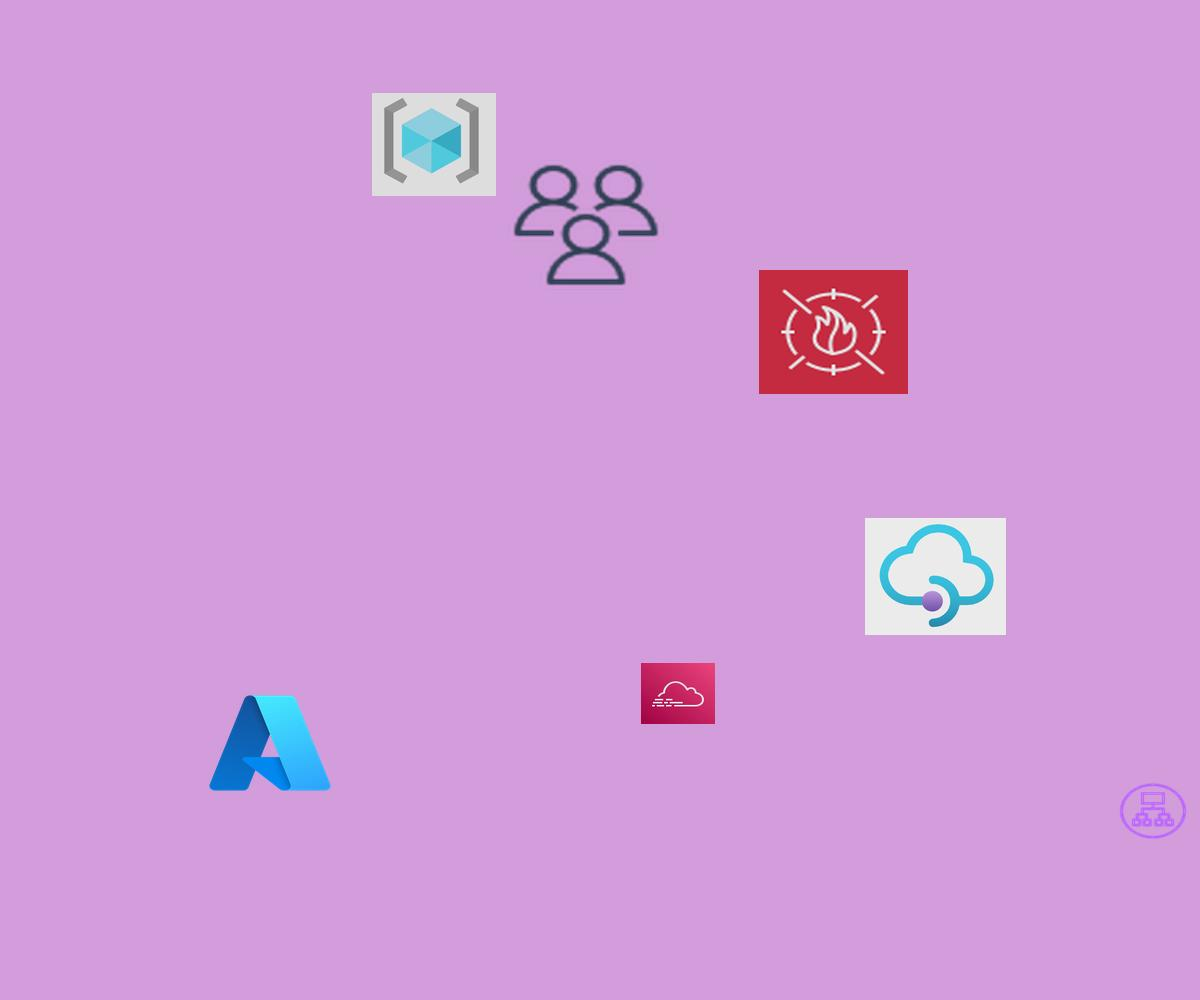AWS-CloudTrail: (641, 663, 715, 724)
AWS-Res_Elastic-Load-Balancing_Application-Load-Balancer: (1117, 781, 1189, 841)
AWS-Res_Users: (508, 160, 664, 290)
AWS-WAF: (759, 270, 908, 394)
Azure_api_gateway: (865, 518, 1006, 635)
Azure_resource_group: (372, 93, 496, 196)
Azure_services: (204, 688, 336, 798)
